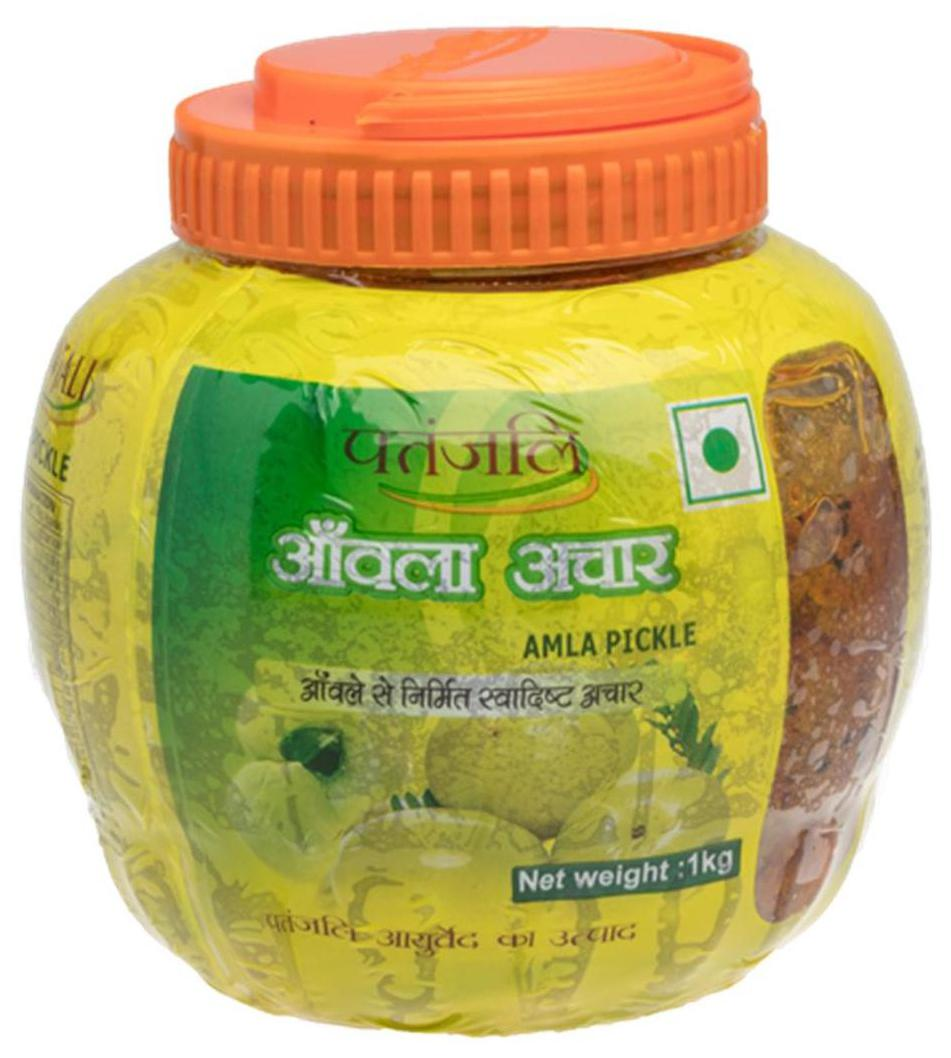JAR: (14, 20, 938, 1046)
